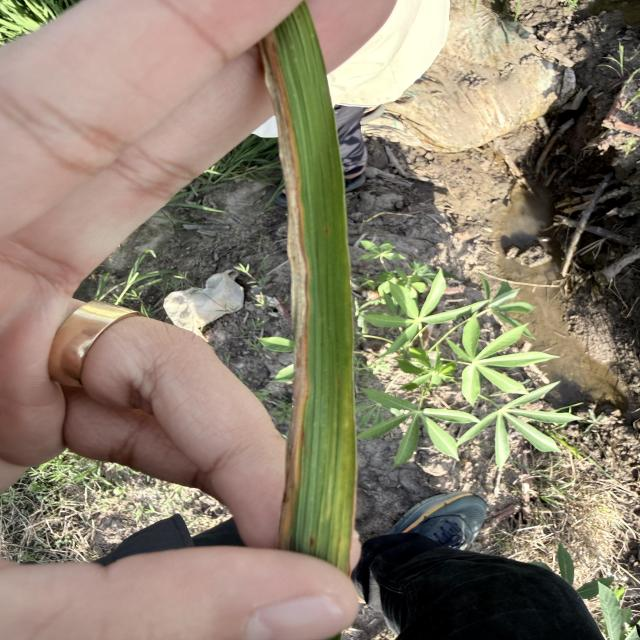Chay bia la: (255, 32, 314, 550)
